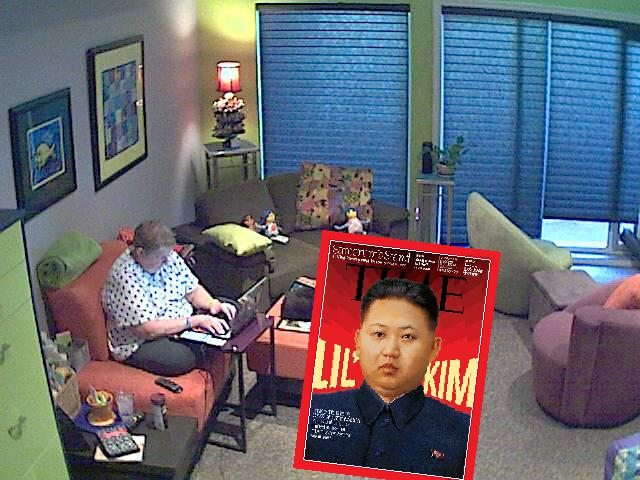times: (289, 226, 510, 478)
